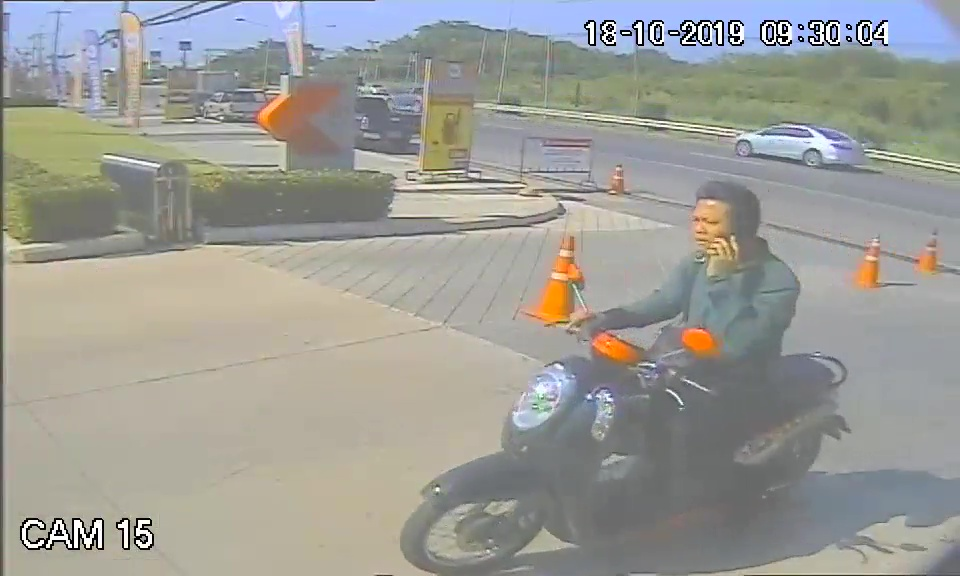motorcycle: (394, 324, 855, 576)
